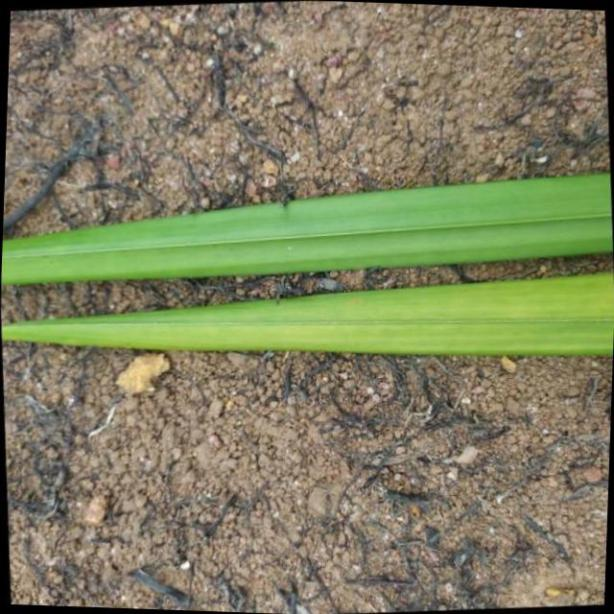nitrogen: (0, 168, 614, 352)
